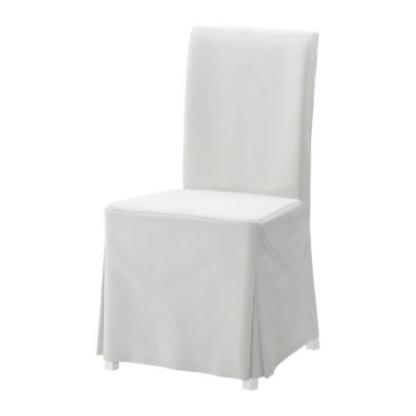Chair: (96, 27, 322, 390)
